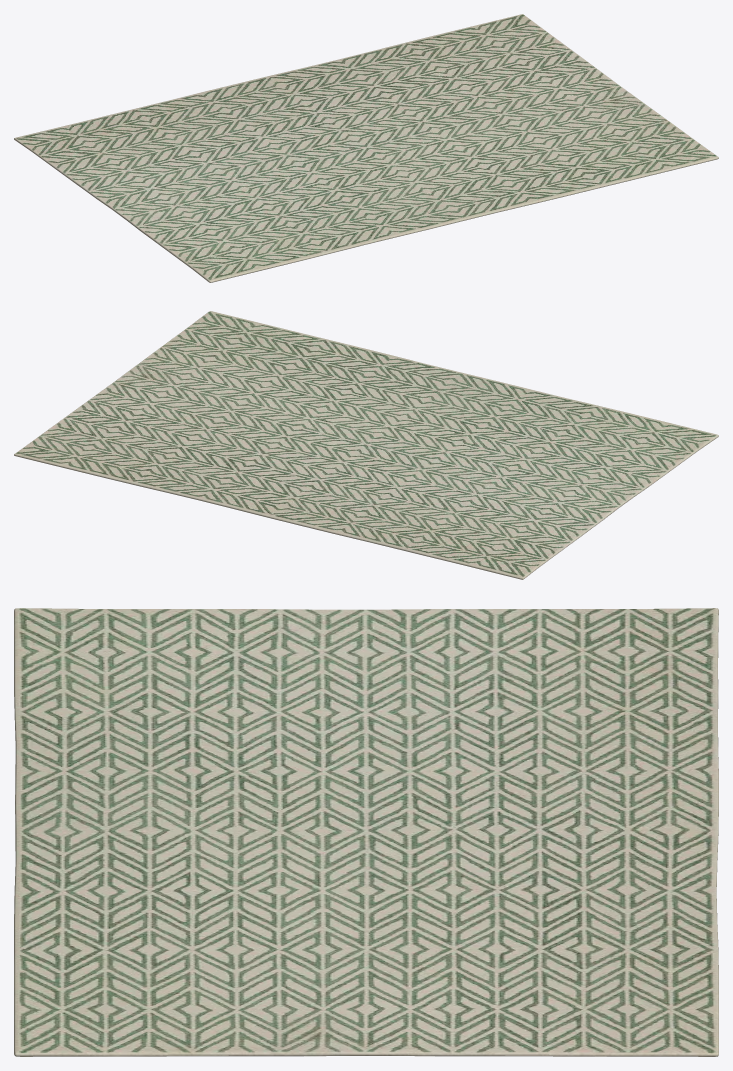
Rendered from B07QFB4XBP.glb.
3 renders of one model, top to bottom at view 1: azimuth 30°, elevation 25°; view 2: azimuth 150°, elevation 25°; view 3: azimuth 270°, elevation 25°, orthographic. The views are drawn at different scales.
Visible parts, largest first — view 1: RootNode; view 2: RootNode; view 3: RootNode.
Part boxes in pixels (x1,y1,x2,y2): RootNode: (14, 14, 718, 282); RootNode: (14, 311, 718, 579); RootNode: (14, 608, 718, 1056).
Size of the model in its own units: 1.83 by 0.00747 by 1.22.
1 material, 1 textured.
